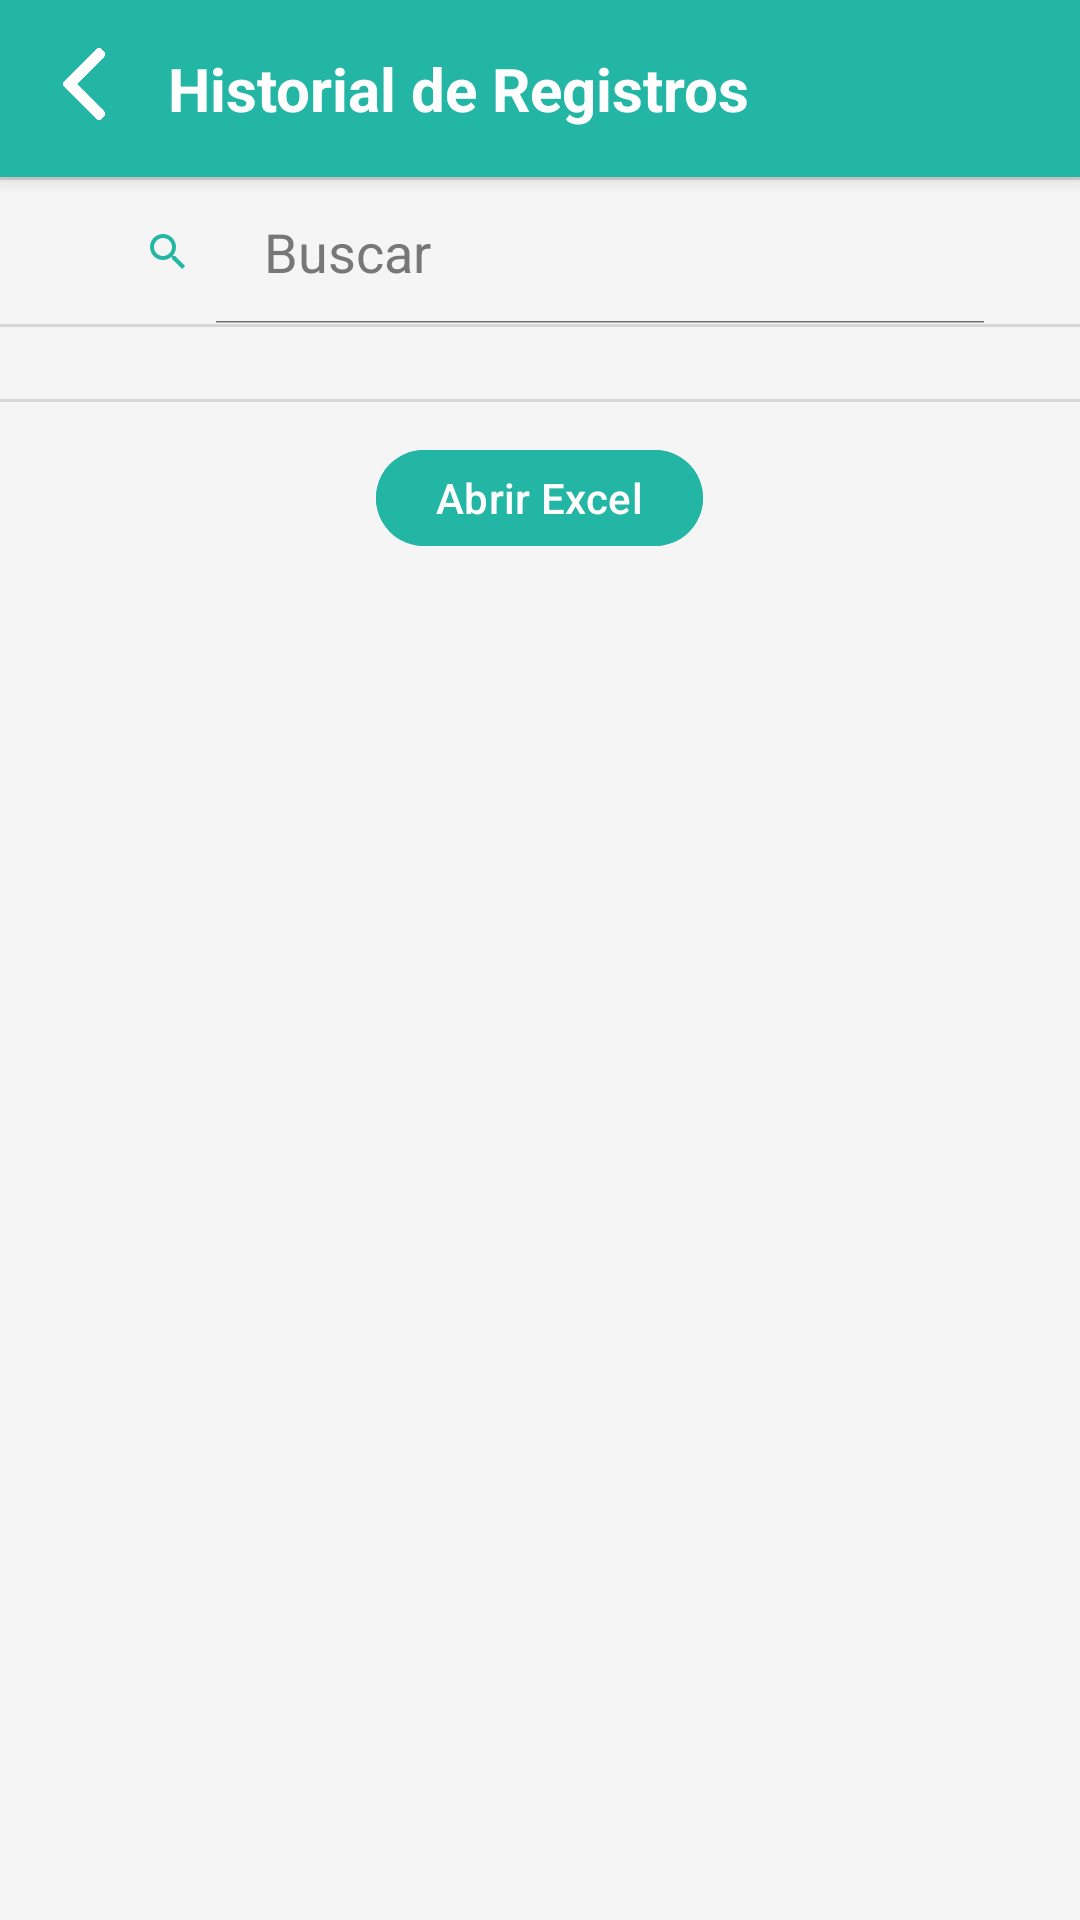

Icons on this 1080×1920 Android screen, each with its box as region(x1, y1, x2, y2):
Volver: region(63, 48, 105, 120)
